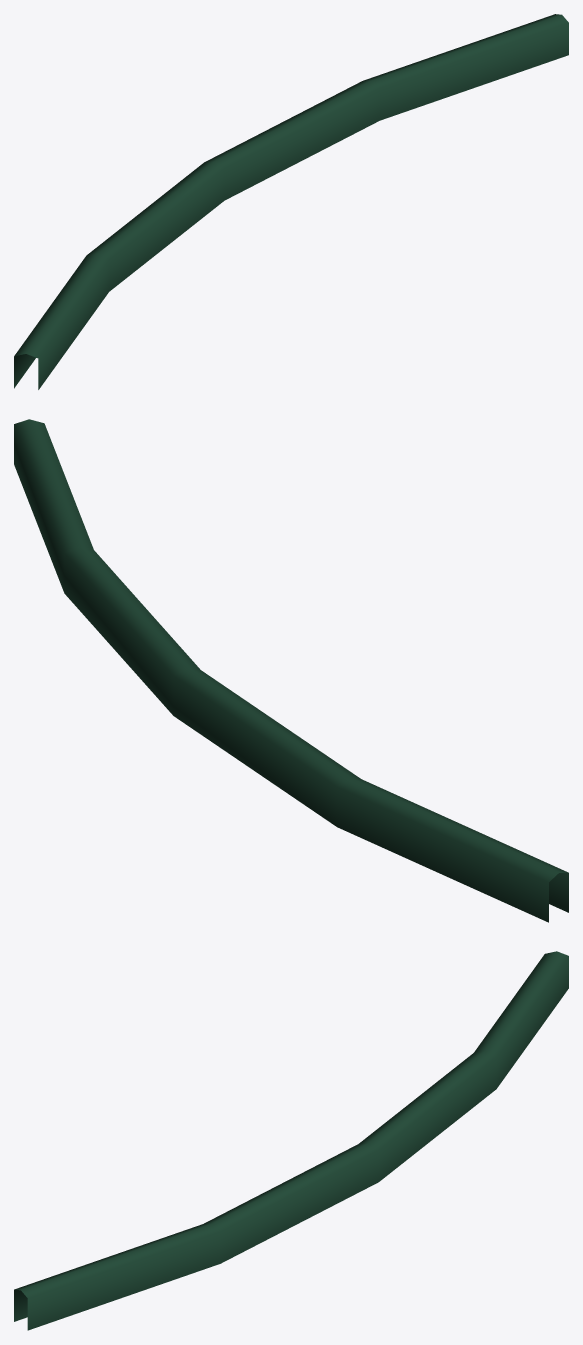
The model's file is Ring82.fbx.
3 views of the same model, one above another, from view 1: azimuth 90°, elevation 25°; view 2: azimuth 150°, elevation 25°; view 3: azimuth 270°, elevation 25° (orthographic). The views are drawn at different scales.
Visible parts, largest first — view 1: Ring82; view 2: Ring82; view 3: Ring82.
Boxes of the visible parts, x1,y1,x2,y2 form: Ring82: (14, 14, 568, 389); Ring82: (14, 419, 568, 922); Ring82: (14, 951, 568, 1330).
Size of the model in its own units: 8199 by 400 by 5583.
